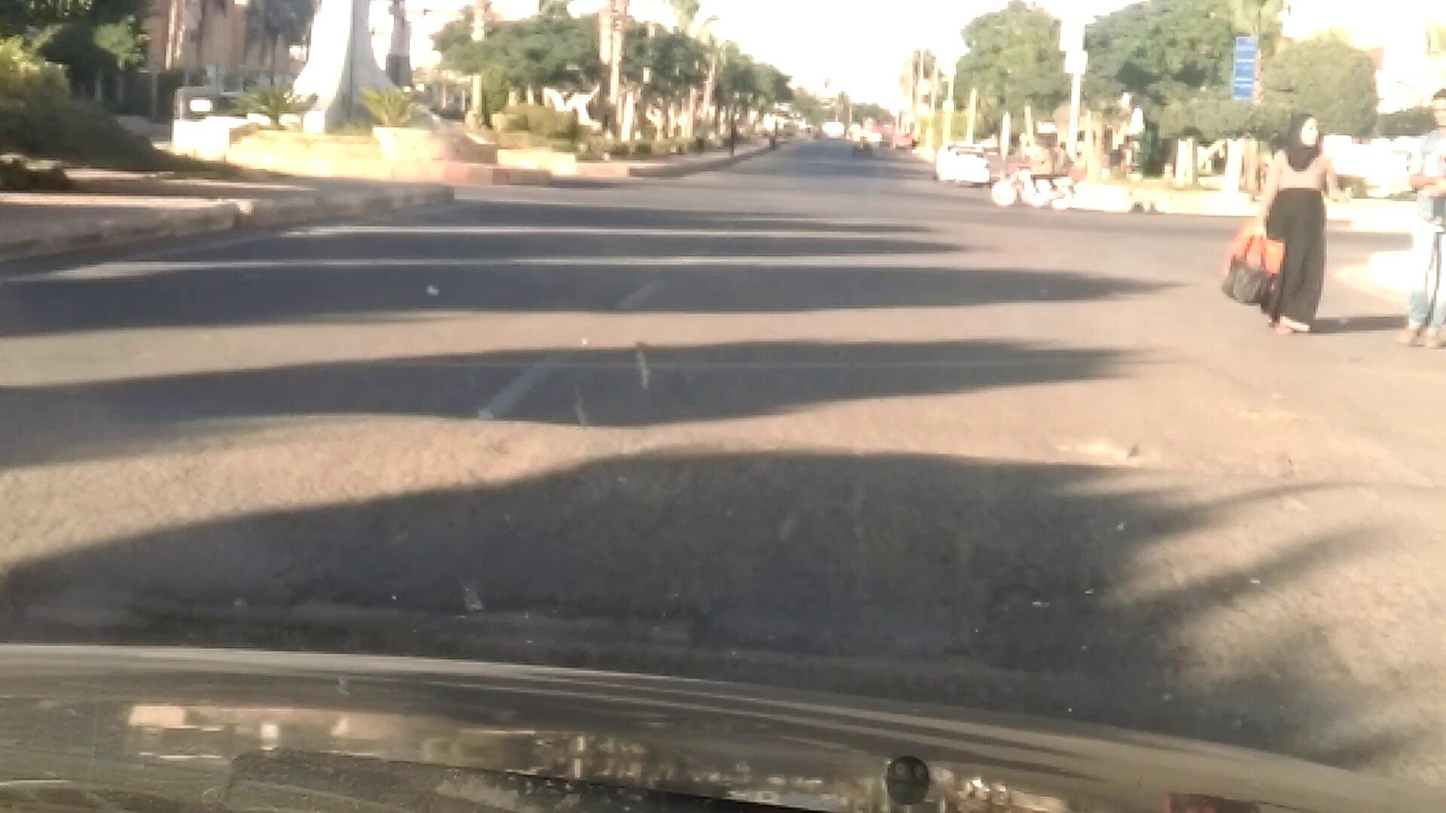Pothole: (222, 563, 1248, 698)
